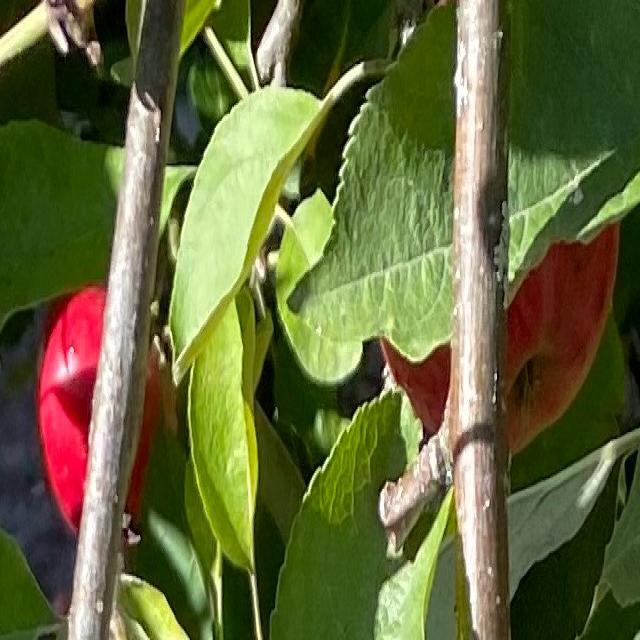Apples: (381, 218, 620, 450), (40, 284, 162, 534)
